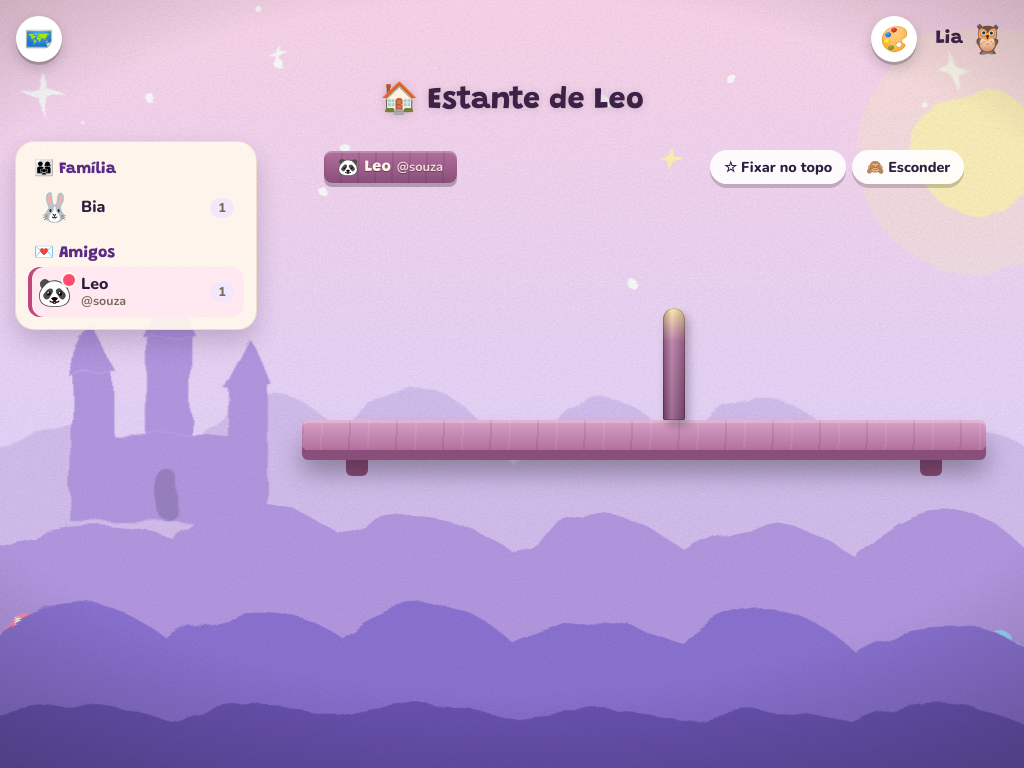
Scenario: amigos escolhidos › escolhe de quem ver a estante, começando por quem mandou livro por último
Expected: the 1st text "@souza" is shown, [397,158,443,176]
Click the button "Bia 1" at (136, 208), box [28,183,244,232]
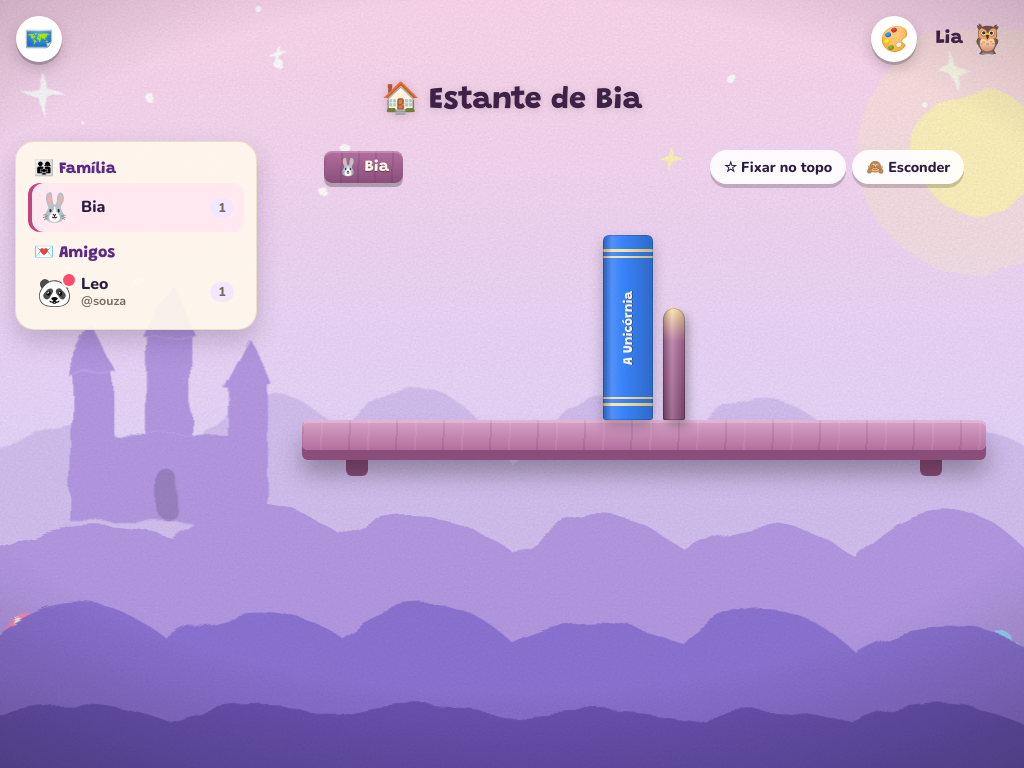
Expected: the list named "Livros de Bia" is shown, [603,235,685,420]
